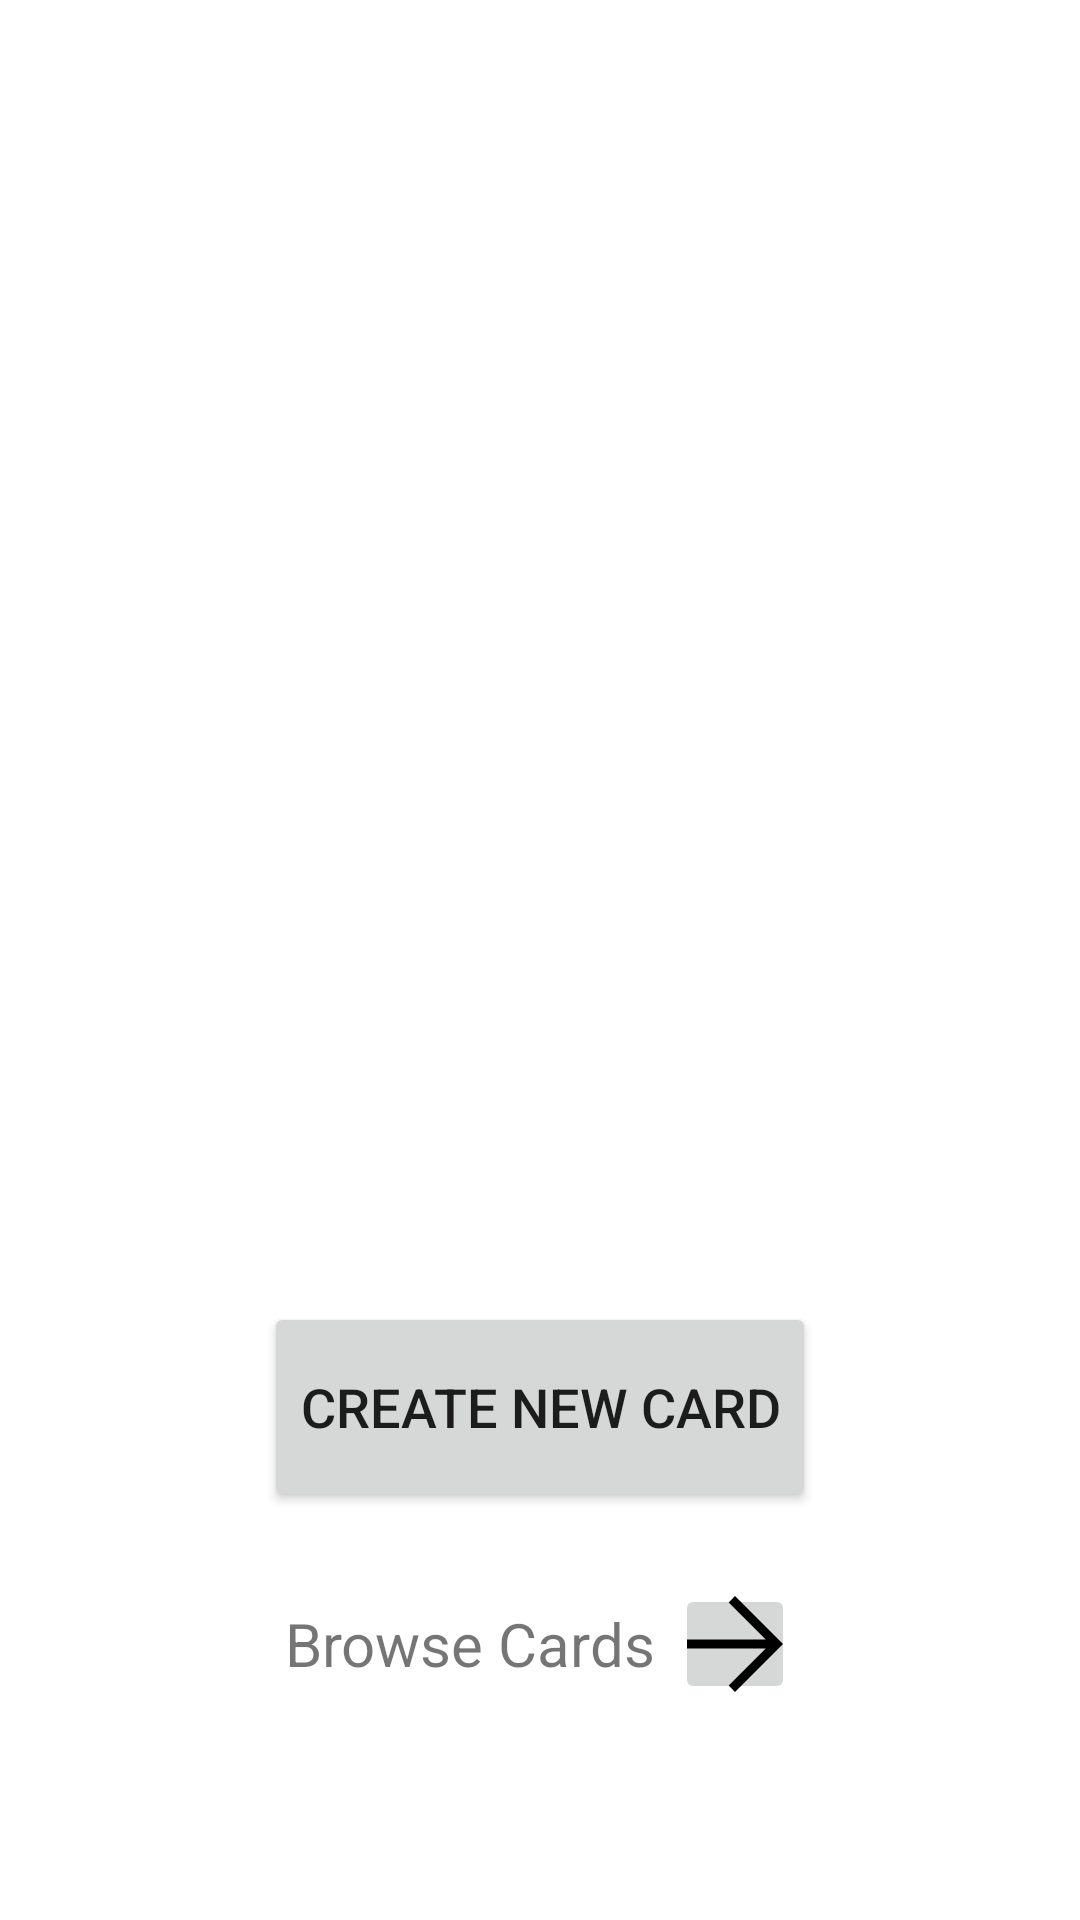

Screen size 1080×1920. Icon name, then its box in pixels as (x1, y1, x2, y2):
arrow forward: (687, 1596, 783, 1692)
